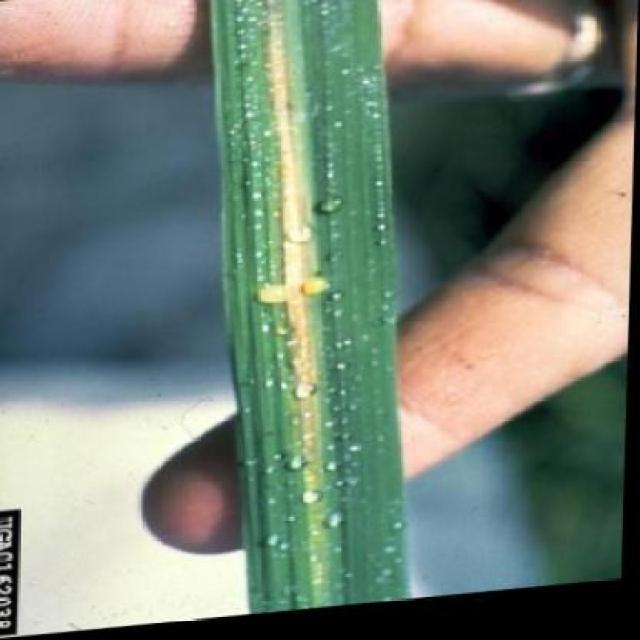Brown_Spot: (237, 0, 364, 615)
